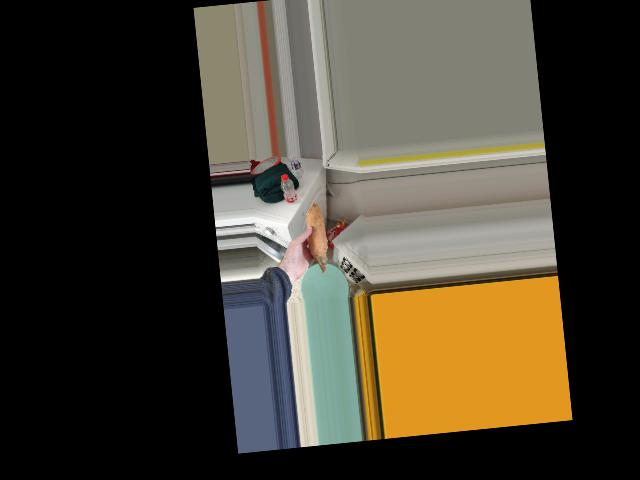sweet_potato: (302, 211, 329, 269)
